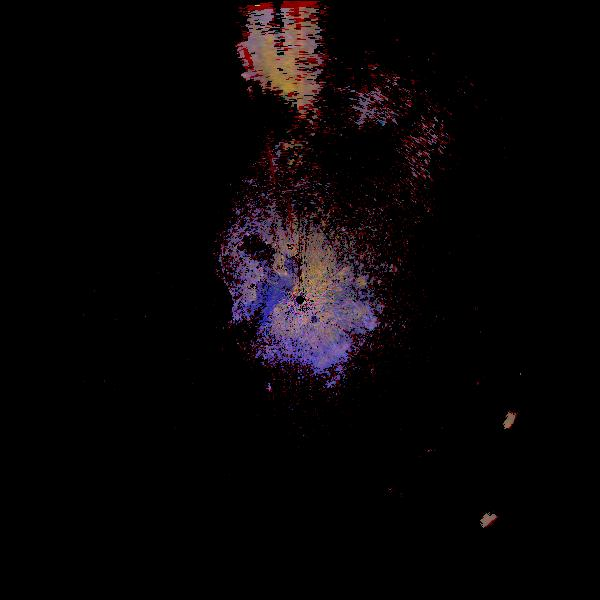roost: (489, 384, 588, 483), (462, 494, 552, 584), (412, 439, 469, 496)
